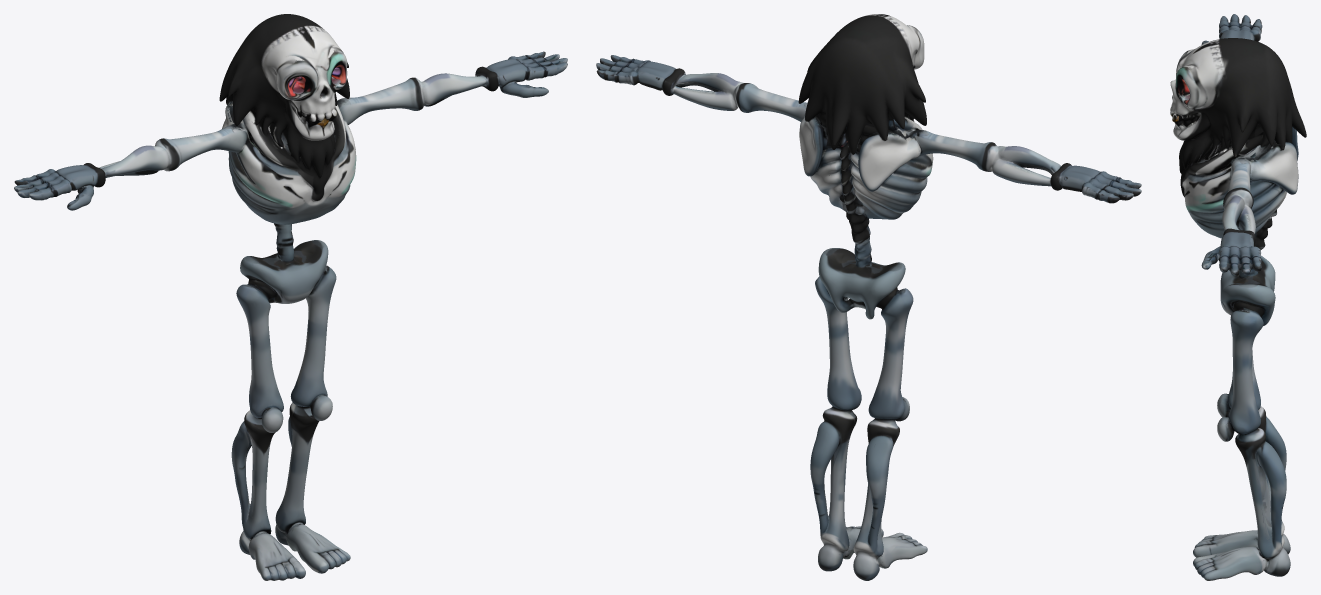
Rendered from Meshy_AI_Skeletonbot_Expressiv_0119015102_texture.fbx.
The picture shows the model from 3 angles, left to right: view 1: azimuth 30°, elevation 25°; view 2: azimuth 150°, elevation 25°; view 3: azimuth 270°, elevation 25°; orthographic projection. The views are drawn at different scales.
Visible parts, largest first — view 1: Mesh_0; view 2: Mesh_0; view 3: Mesh_0.
Part boxes in pixels (x1=…): Mesh_0: x1=14, y1=14, x2=567, y2=580; Mesh_0: x1=596, y1=14, x2=1141, y2=580; Mesh_0: x1=1170, y1=14, x2=1306, y2=580.
Size of the model in its own units: 190 by 180 by 42.46.
1 material, 1 textured.
